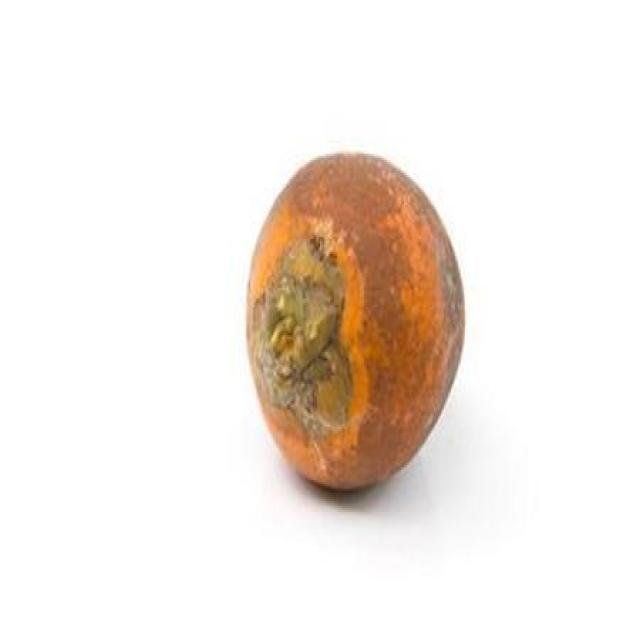good: (245, 151, 468, 495)
